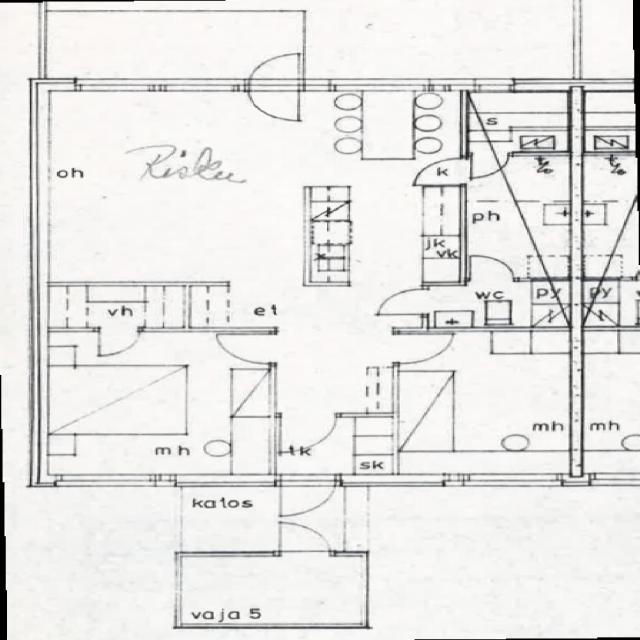door: (279, 474, 336, 520), (248, 48, 300, 90), (248, 79, 300, 121), (281, 413, 335, 450), (218, 334, 276, 364), (279, 523, 329, 557), (392, 334, 448, 363), (412, 157, 466, 185), (470, 251, 514, 281), (378, 289, 428, 314), (98, 327, 137, 355), (472, 152, 508, 178)
